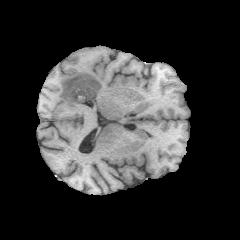glioma: (59, 72, 102, 106)
